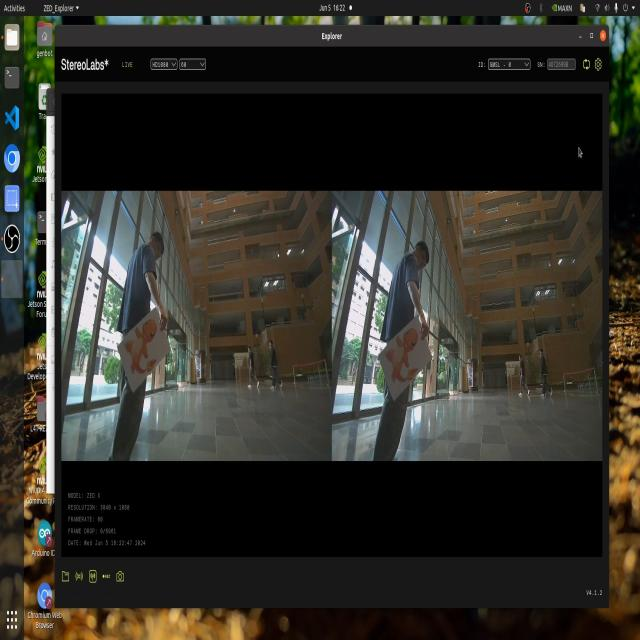red: (120, 320, 162, 384), (389, 333, 424, 396)
